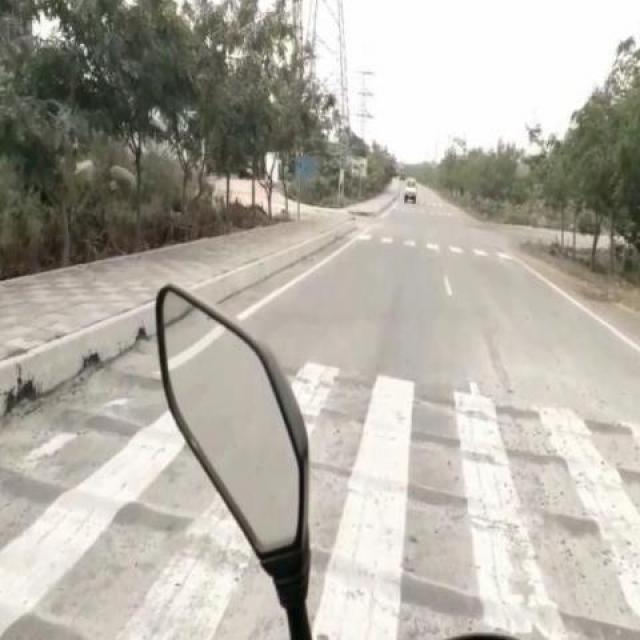Speed Bump: (310, 465, 640, 546), (306, 366, 638, 436), (306, 400, 638, 464), (1, 452, 203, 542), (312, 535, 482, 626), (2, 596, 158, 639), (44, 403, 165, 449), (542, 590, 638, 638), (94, 360, 157, 395)
